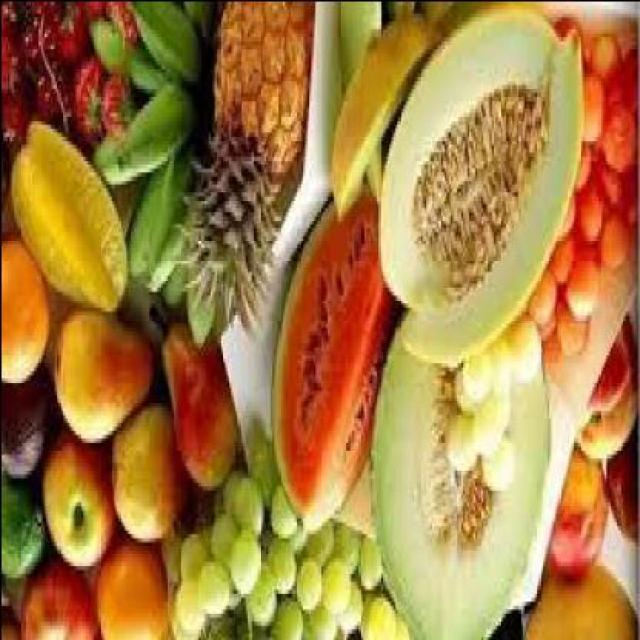BIODEGRADABLE: (402, 36, 584, 370), (371, 314, 551, 638), (380, 3, 562, 314), (271, 195, 400, 536), (12, 123, 130, 314), (334, 20, 443, 223), (186, 127, 282, 342), (217, 4, 314, 191), (153, 314, 242, 484), (57, 314, 158, 446), (113, 406, 193, 545), (44, 437, 114, 572), (338, 4, 384, 207), (575, 322, 639, 462), (545, 452, 610, 585), (526, 568, 639, 638), (96, 541, 170, 639), (119, 84, 193, 179), (2, 242, 49, 390), (147, 147, 193, 290), (86, 20, 172, 95), (138, 4, 202, 96), (22, 568, 101, 640), (2, 370, 49, 473), (2, 482, 46, 580), (606, 424, 639, 550), (127, 175, 164, 287), (74, 52, 105, 151), (461, 342, 507, 402), (34, 60, 72, 131), (507, 318, 544, 389), (600, 107, 638, 171), (22, 5, 56, 76), (476, 389, 510, 457), (392, 4, 419, 87), (96, 139, 133, 199), (443, 413, 480, 473), (482, 433, 516, 498), (232, 481, 266, 545), (590, 32, 624, 96), (318, 560, 352, 620), (58, 4, 88, 68), (568, 258, 600, 318), (270, 532, 298, 600), (457, 366, 491, 422), (594, 159, 628, 215), (250, 438, 275, 513), (174, 581, 208, 636), (358, 596, 402, 638), (2, 8, 23, 95), (198, 568, 232, 621), (598, 218, 632, 271), (252, 560, 277, 632), (235, 532, 262, 597), (191, 287, 215, 358), (105, 79, 133, 139), (558, 302, 588, 358), (544, 338, 574, 393), (104, 4, 138, 51), (583, 75, 605, 143), (270, 488, 298, 541), (577, 191, 605, 243), (304, 521, 334, 568), (552, 235, 582, 282), (559, 24, 586, 76), (219, 469, 244, 525), (4, 88, 28, 143), (298, 561, 322, 616), (336, 589, 364, 636), (272, 603, 308, 639), (532, 279, 559, 326), (168, 255, 189, 310), (182, 541, 210, 581), (298, 612, 340, 638), (361, 545, 382, 597), (184, 4, 211, 44), (339, 533, 363, 576), (162, 536, 181, 589), (213, 524, 238, 564), (622, 51, 638, 112), (575, 151, 599, 191), (619, 179, 638, 227), (1, 143, 12, 219), (2, 612, 24, 638), (84, 4, 108, 24), (176, 620, 202, 638), (391, 623, 415, 639)
